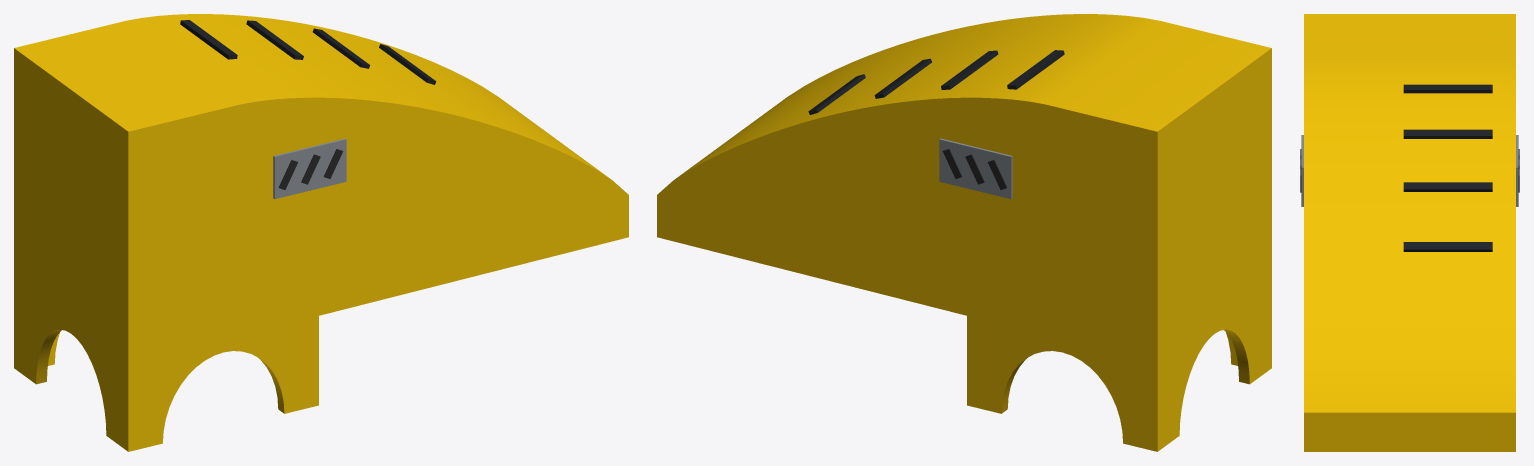
3 renders of one model, left to right at view 1: azimuth 30°, elevation 25°; view 2: azimuth 150°, elevation 25°; view 3: azimuth 270°, elevation 25°, orthographic. The views are drawn at different scales.
Visible parts, largest first — view 1: M-06; view 2: M-06; view 3: M-06.
Part boxes in pixels (left/top/right/bottom): M-06: left=14, top=14, right=628, bottom=451; M-06: left=657, top=14, right=1271, bottom=451; M-06: left=1300, top=14, right=1519, bottom=451.
Bounding box in the file's own units: 0.1112 × 0.0679 × 0.0454.
